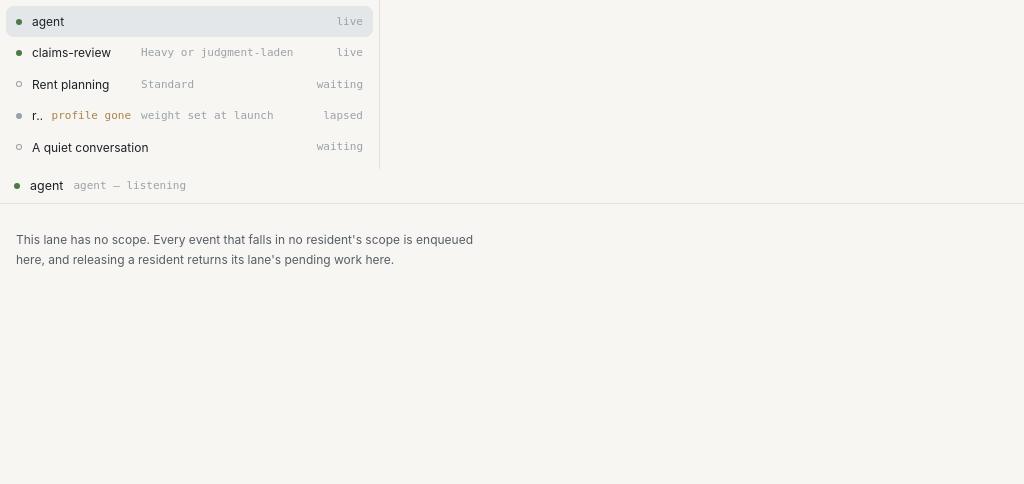
Test case: the scope pane › says how each member reached the scope, as the server's walk reported it
Click the button "claims-review Heavy or judgment-laden live" at (190,53), box [6,37,373,69]
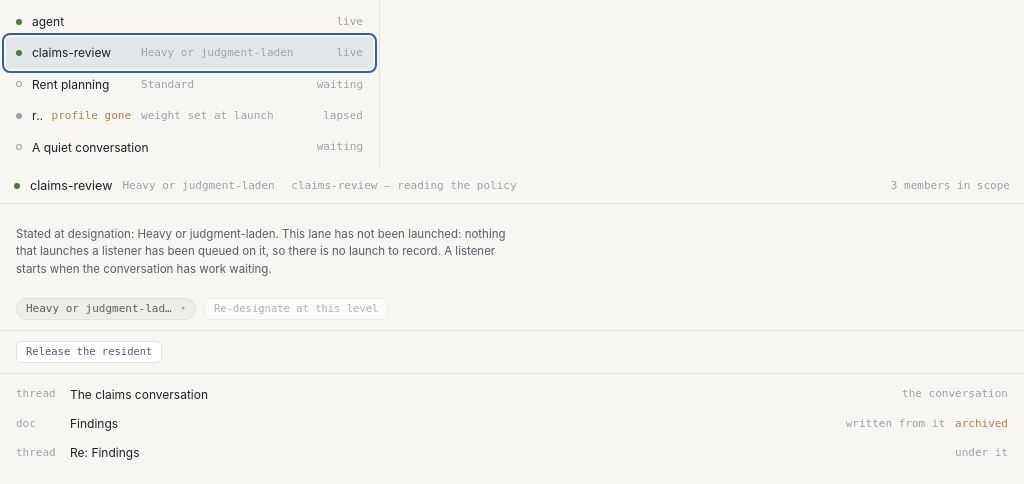
Expected: the button "doc Findings written from it archived" is shown, [6,409,1018,438]
Expected: the button "thread Re: Findings under it" is shown, [6,438,1018,468]
